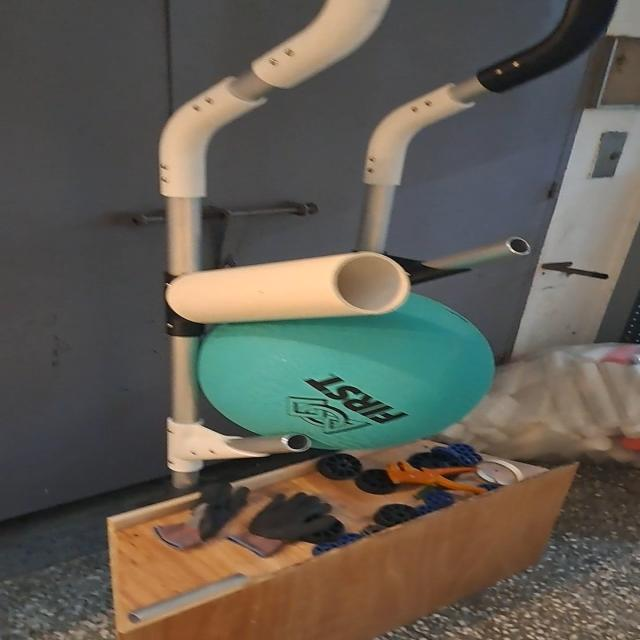ALGAE: (192, 282, 503, 453)
CORAL: (168, 252, 414, 328)
